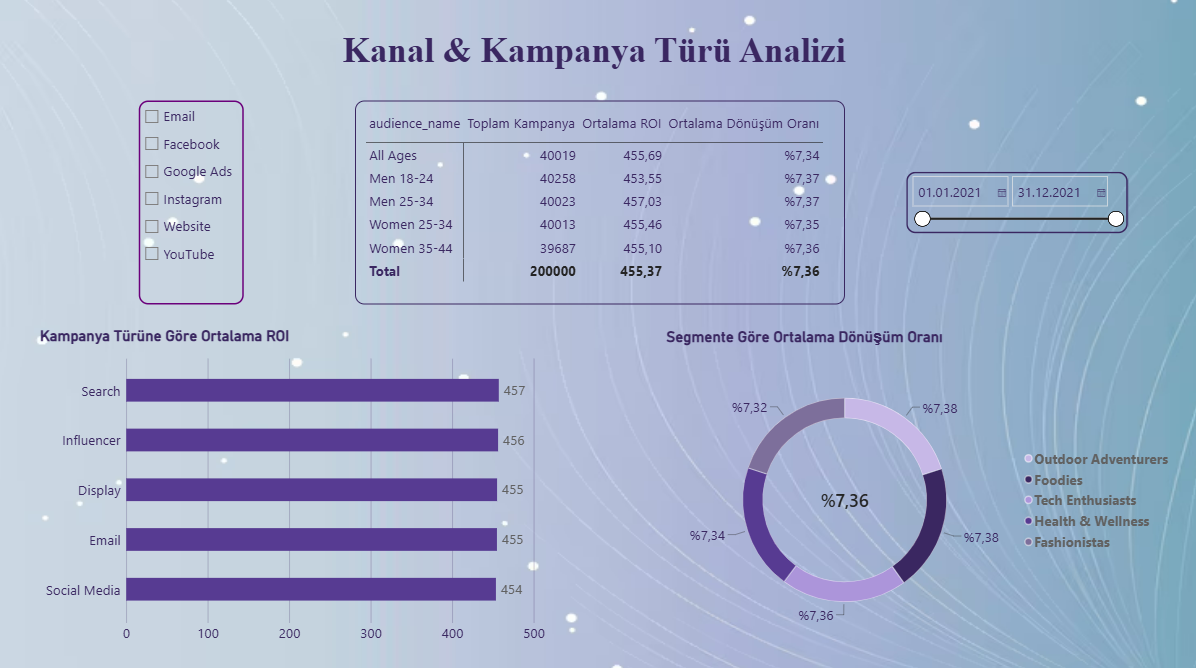

Layout of this report page (visuals, bound fields, positions):
{"tool":"powerbi","page":{"name":"Kanal & Kampanya Türü Analizi","canvas":[1920,1080],"ordinal":1},"visuals":[{"type":"clusteredBarChart","title":"Kampanya Türüne Göre Ortalama ROI","fields":{"Category":["temiz_kampanya_verisi.campaign_type_name"],"Y":["temiz_kampanya_verisi.Ortalama ROI"]},"box":[48,512,840,540],"z":0},{"type":"pivotTable","fields":{"Rows":["temiz_kampanya_verisi.audience_name"],"Values":["temiz_kampanya_verisi.Toplam Kampanya","temiz_kampanya_verisi.Ortalama ROI","temiz_kampanya_verisi.Ortalama Dönüşüm Oranı"]},"box":[568,164,784,326],"z":1},{"type":"donutChart","title":"Segmente Göre Ortalama Dönüşüm Oranı","fields":{"Category":["temiz_kampanya_verisi.segment_name"],"Y":["temiz_kampanya_verisi.Ortalama Dönüşüm Oranı"]},"box":[1050,512,844,540],"z":2},{"type":"textbox","box":[48,52,174,326],"z":3},{"type":"textbox","box":[548,52,822,78],"z":4},{"type":"slicer","fields":{"Values":["temiz_kampanya_verisi.campaign_date"]},"box":[1450,278,354,98],"z":5},{"type":"slicer","fields":{"Values":["temiz_kampanya_verisi.channel_name"]},"box":[222,164,168,326],"z":6}]}

Visuals, with their boxes in screenshot pixels (x1, y1, x2, y2), scaled from the page's 1920x1080 canvas onto the 1196x668 screenshot:
"Kampanya Türüne Göre Ortalama ROI" clusteredBarChart: crop(30, 317, 553, 651)
pivotTable - temiz_kampanya_verisi.audience_name x temiz_kampanya_verisi.Toplam Kampanya: crop(354, 101, 842, 303)
"Segmente Göre Ortalama Dönüşüm Oranı" donutChart: crop(654, 317, 1180, 651)
textbox: crop(30, 32, 138, 234)
textbox: crop(341, 32, 853, 80)
slicer - temiz_kampanya_verisi.campaign_date: crop(903, 172, 1124, 233)
slicer - temiz_kampanya_verisi.channel_name: crop(138, 101, 243, 303)
